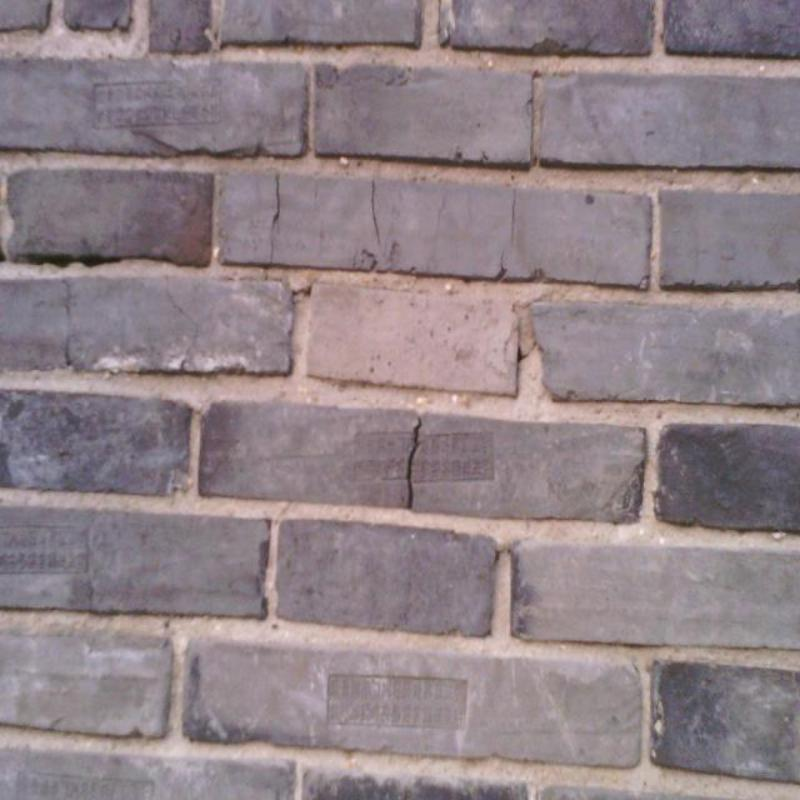pothole: (166, 276, 199, 370), (406, 418, 422, 510), (270, 172, 281, 262), (24, 256, 116, 266), (61, 278, 71, 366), (370, 180, 381, 242), (516, 342, 536, 365), (510, 189, 518, 245), (496, 251, 506, 279), (291, 286, 311, 296), (495, 548, 511, 560)
